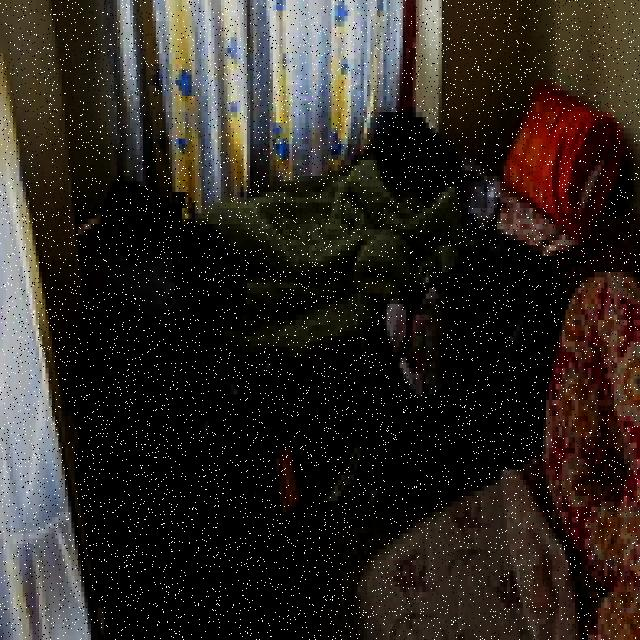bed: (106, 93, 626, 360)
